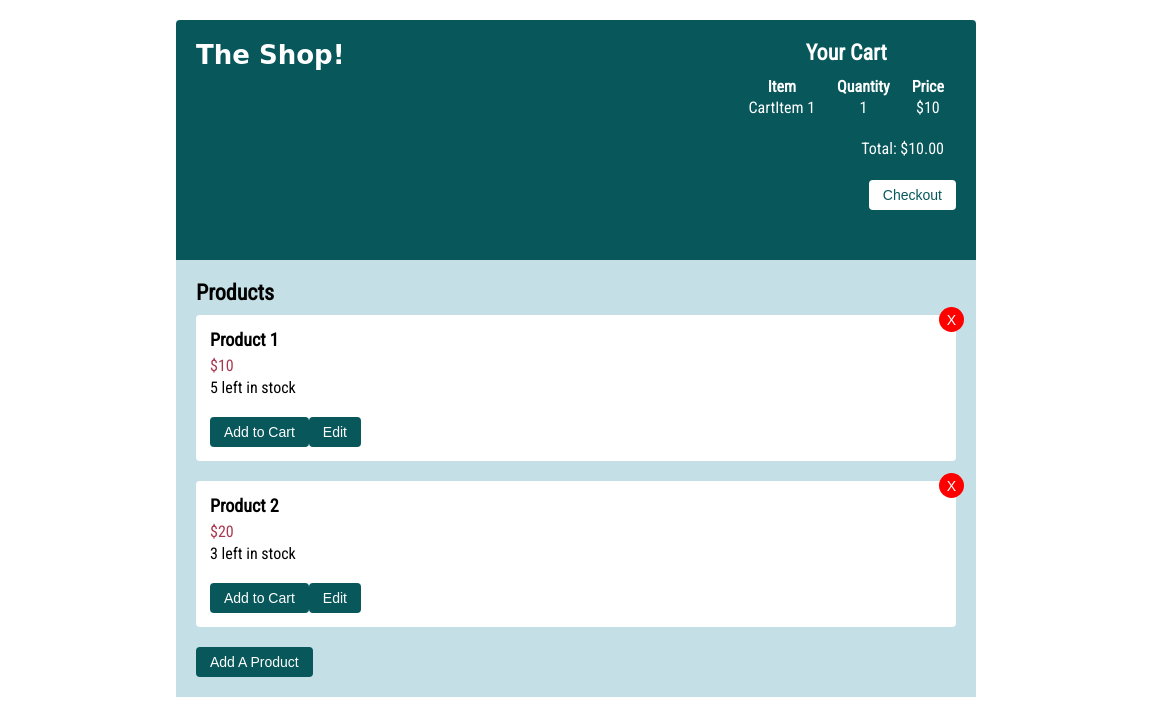
App component › allows checking out
The image size is (1152, 720).
Check: the heading "Your Cart" is shown, box [806,40,887,65]
Click the button "Checkout" at (912, 195), box [869,180,956,210]
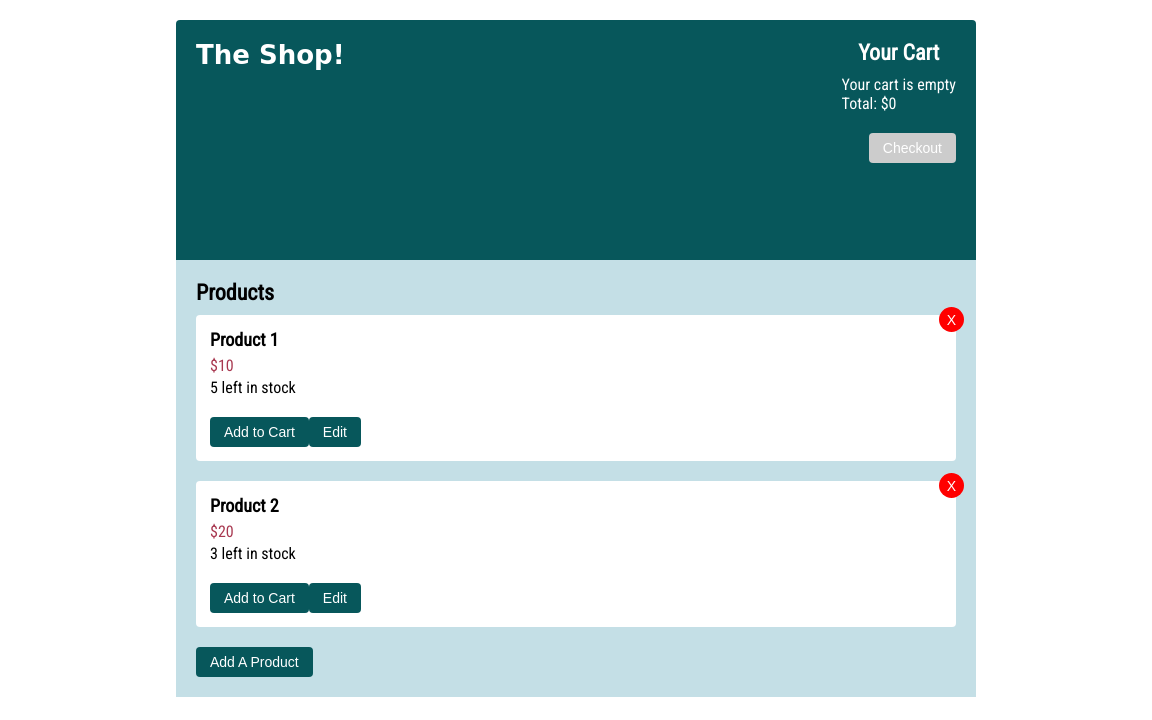
Check: the text "Your cart is empty" is shown, box [842,75,956,94]
